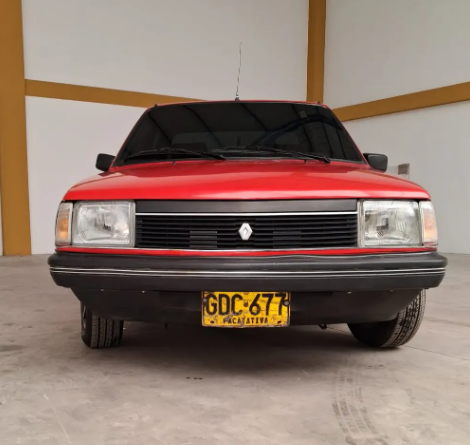placa: (201, 290, 291, 329)
